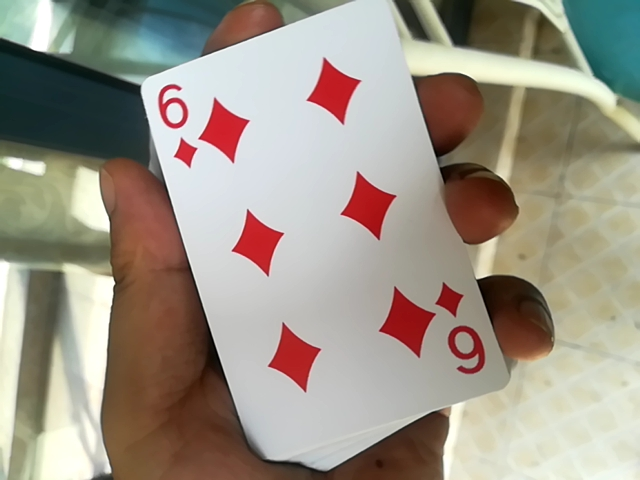fk 6: (119, 4, 477, 470)
